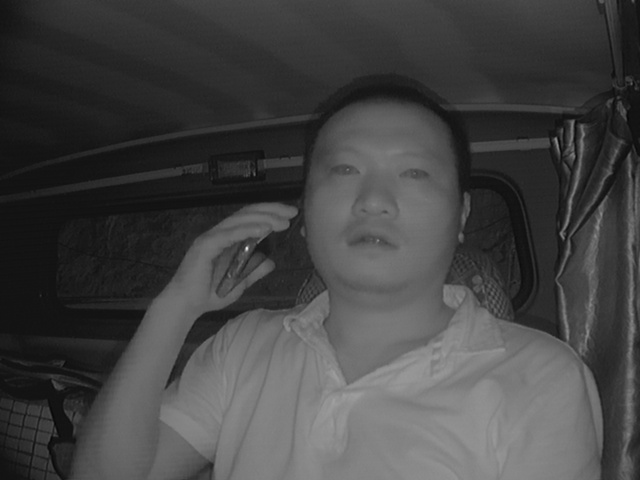hand: (182, 204, 295, 307)
